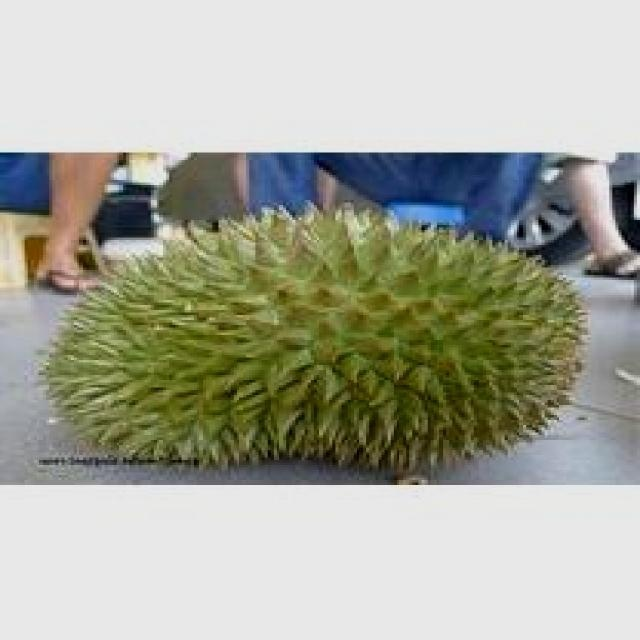agrume: (41, 212, 588, 476)
